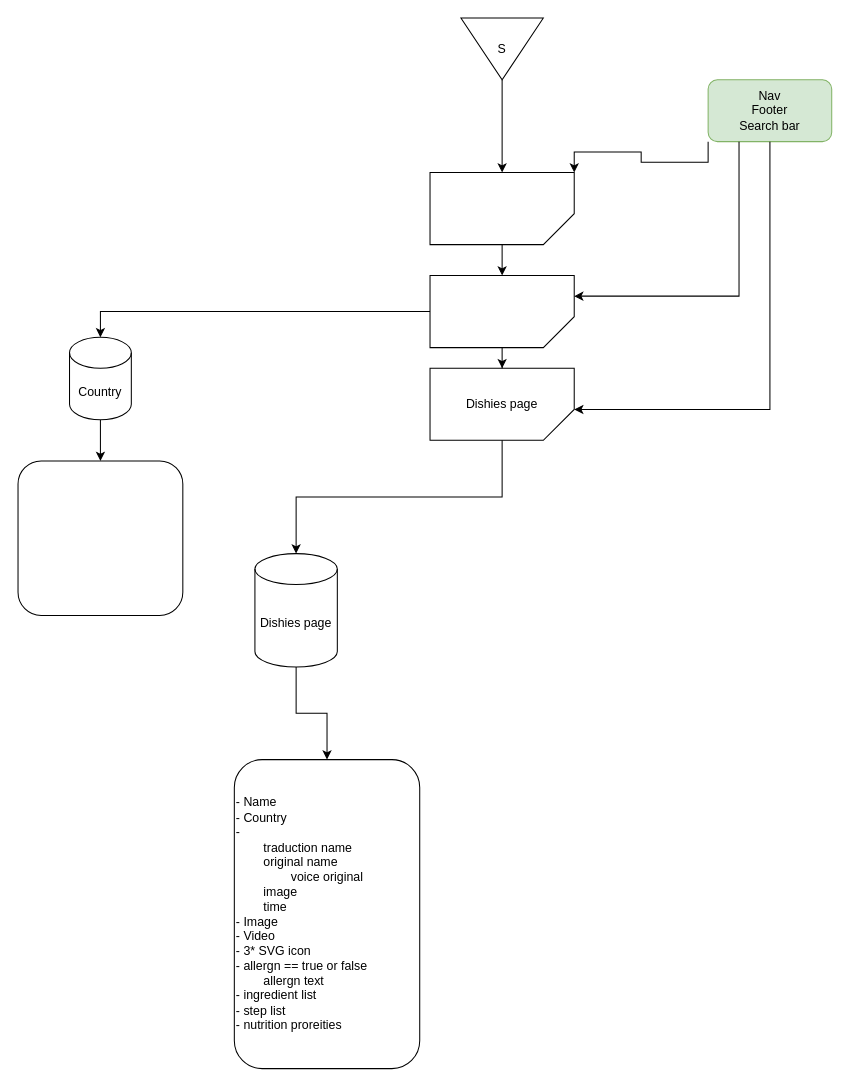
Some shapes in this 850 by 1087 pixel diagram are drawn without their labels. Each missing label, with the centre of its shape:
"- Name - Background image - country flag - map image - text description" goes at (100,537).
"Country page" goes at (501,311).
"Home page" goes at (501,208).
